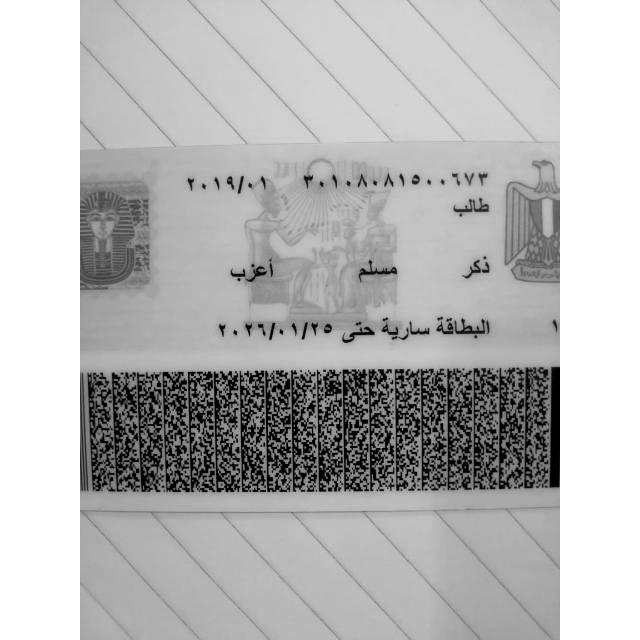id_card: (73, 142, 562, 510)
